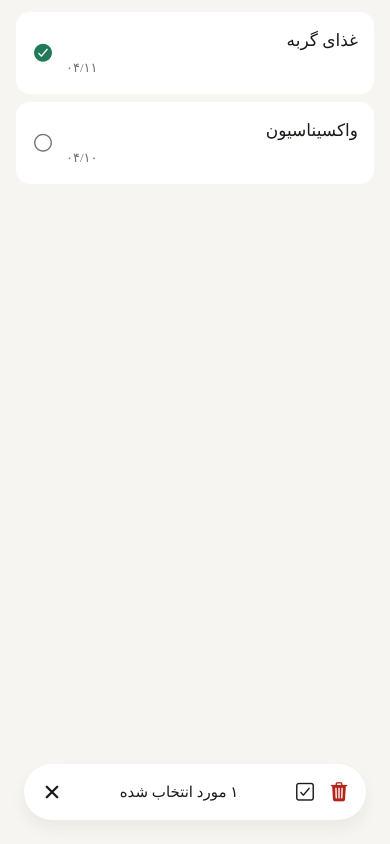
it: ConversationListScreen › long-press selects multiple conversations and bulk-deletes via the selection toolbar
Expected: the text "غذای گربه" is shown, x1=287 y1=31 x2=358 y2=50
Expected: the button with test id "conv-row-c1" is selected, x1=16 y1=12 x2=374 y2=94
Click the button with test id "conv-row-c2".
click(312, 130)  # box x1=16 y1=102 x2=374 y2=184
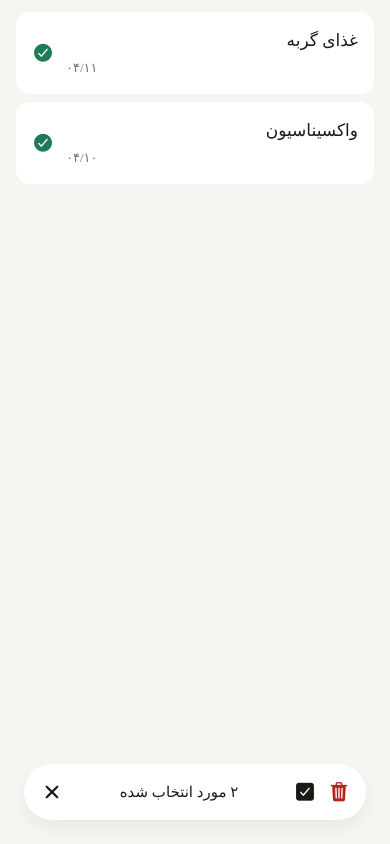
Click the button with test id "selection-delete".
click(339, 792)  # box x1=328 y1=780 x2=350 y2=804
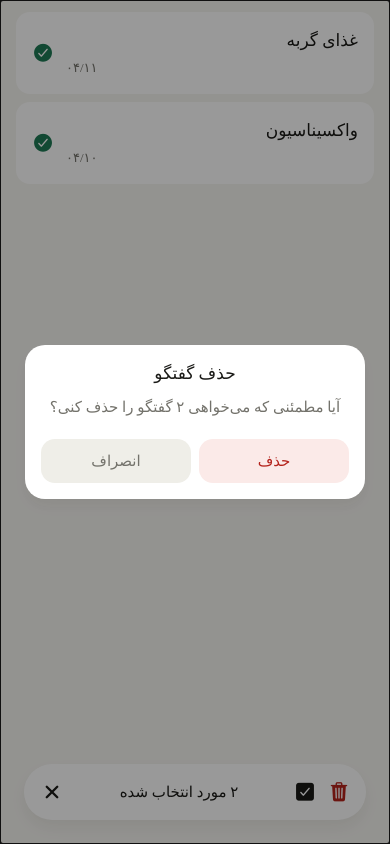
Expected: the element with test id "conv-delete-many-dialog" is shown, x1=25 y1=345 x2=365 y2=499
Click the button with test id "conv-delete-many-dialog-confirm".
click(274, 461)  # box x1=199 y1=439 x2=349 y2=483
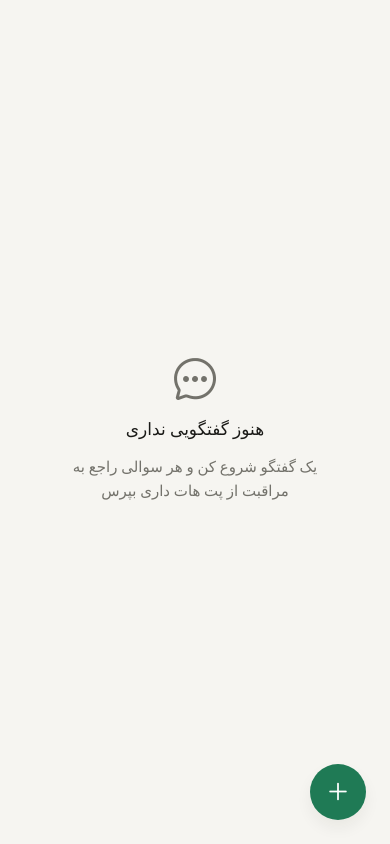
Expected: the button with test id "selection-cancel" is gone
